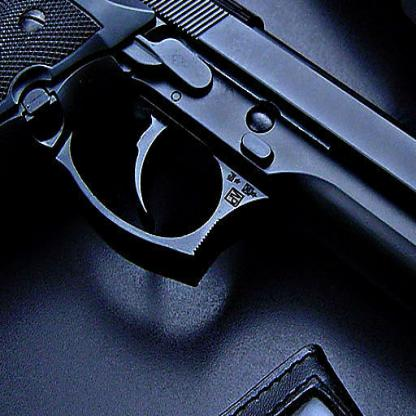gun: (0, 0, 415, 385)
